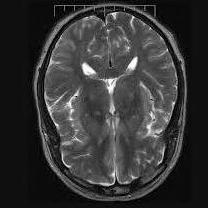Normal_Brain: (14, 1, 204, 208)
